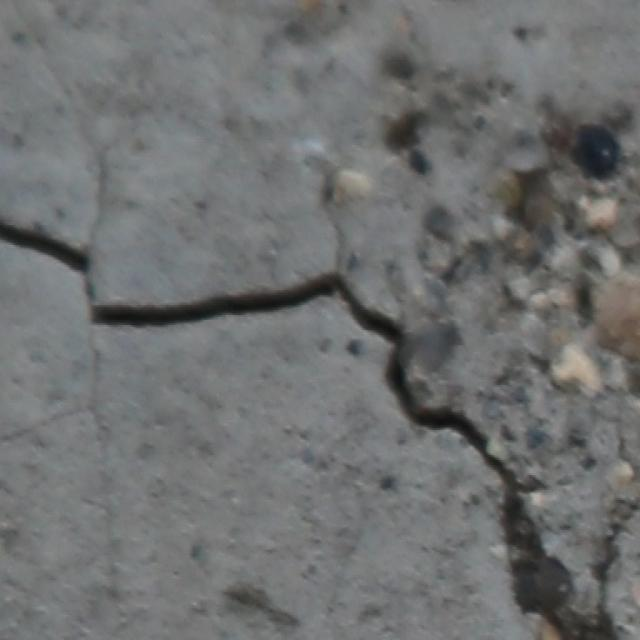crack: (2, 206, 510, 480)
spall: (431, 64, 638, 636)
